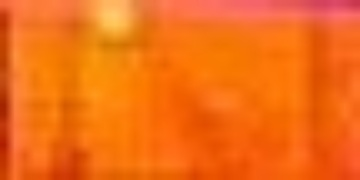Hotspot: (94, 1, 137, 33)
